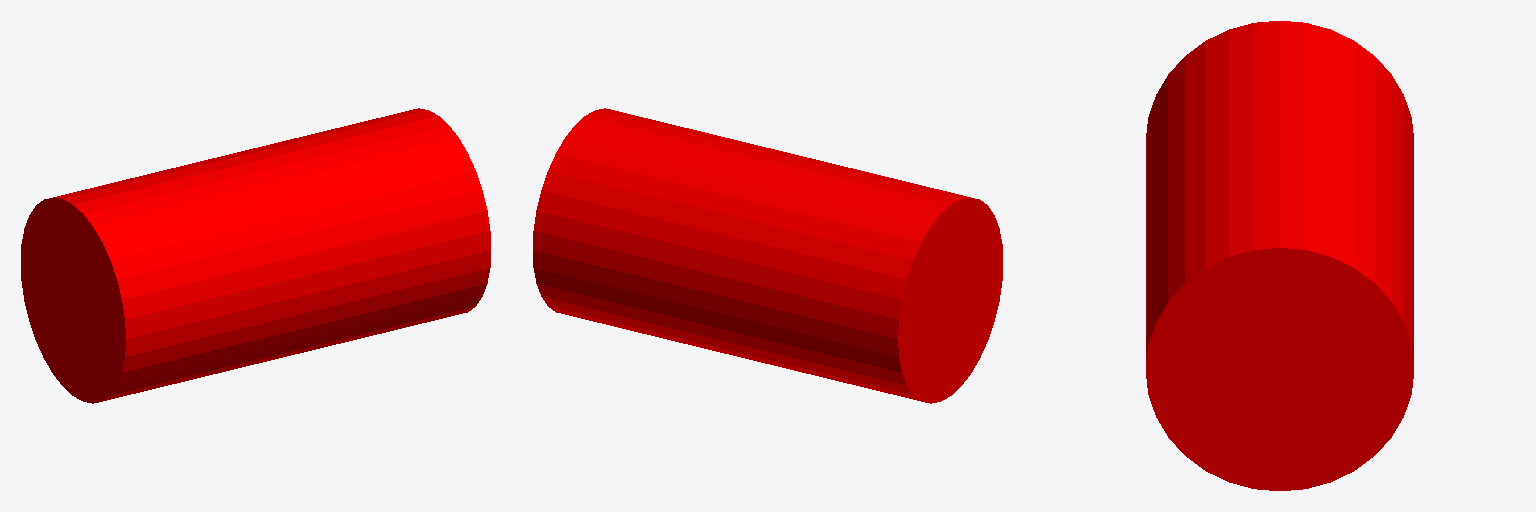
URDF robot description (ultrasonic):
<?xml version="1.0"?>
<robot name="ultrasonic">

    <material name="red">
        <color rgba="1 0 0 1"/>
    </material>
    
    <link name="base_link"/>
    
    <link name="ultrasonic">
        <collision>
            <origin xyz="0 0 0" rpy="0 1.5708 0"/>
            <geometry>
                <cylinder radius="0.05" length="0.2"/>
            </geometry>
        </collision>

        <visual>
            <origin xyz="0 0 0" rpy="0 1.5708 0"/>
            <geometry>
                <cylinder radius="0.05" length="0.2"/>
            </geometry>
            <material name="red"/>
        </visual>

        <inertial>
            <mass value="1e-5" />
            <origin xyz="0 0 0" rpy="0 0 0"/>
            <inertia ixx="1e-6" ixy="0" ixz="0" iyy="1e-6" iyz="0" izz="1e-6" />
        </inertial>
    </link>

    <joint name="fixed" type="fixed">
        <parent link="base_link"/>
        <child link="ultrasonic"/>
    </joint>

    <gazebo reference="ultrasonic">
        <kinematic>true</kinematic>
        <gravity>false</gravity>
        <sensor type="sonar" name="sonar">
            <pose>0 0 0 0 0 0</pose>
            <!-- <visualize>0</visualize> -->
            <!-- <update_rate>30.0</update_rate> -->
            <sonar>
                <geometry>sphere</geometry>
                <min>0.01</min>
                <max>6.0</max>
                <!-- <radius>8</radius> -->
                <!-- <radius>22.392304845</radius> -->
            </sonar>
            <plugin filename="libgazebo_ros_range.so" name="gazebo_ros_range">
                <gaussianNoise>0.005</gaussianNoise>
                <alwaysOn>true</alwaysOn>
                <updateRate>30.0</updateRate>
                <topicName>/sonar</topicName>
                <frameName>ultrasonic</frameName>
                <fov>1.308996939</fov>
                <radiation>ultrasound</radiation>
            </plugin>
        </sensor>
    </gazebo>

</robot>

--- Facts derived from the render (not from the file) ---
Views: 3 orthographic renders of the robot side by side, from view 1: azimuth 30°, elevation 25°; view 2: azimuth 150°, elevation 25°; view 3: azimuth 270°, elevation 25°.
Model ultrasonic with 2 links and 1 joints (1 fixed), rooted at base_link, posed all joints at 0.
Links seen in each view (by area): view 1: ultrasonic; view 2: ultrasonic; view 3: ultrasonic.
Link boxes in pixels (box(x1,y1,x2,y2)): ultrasonic: box(21, 108, 490, 403); ultrasonic: box(533, 108, 1002, 403); ultrasonic: box(1146, 21, 1413, 490).
Bounding box of the posed robot: 0.2 × 0.1 × 0.1 m (x, y, z).
Geometry: primitives only (box / cylinder / sphere), no mesh files.